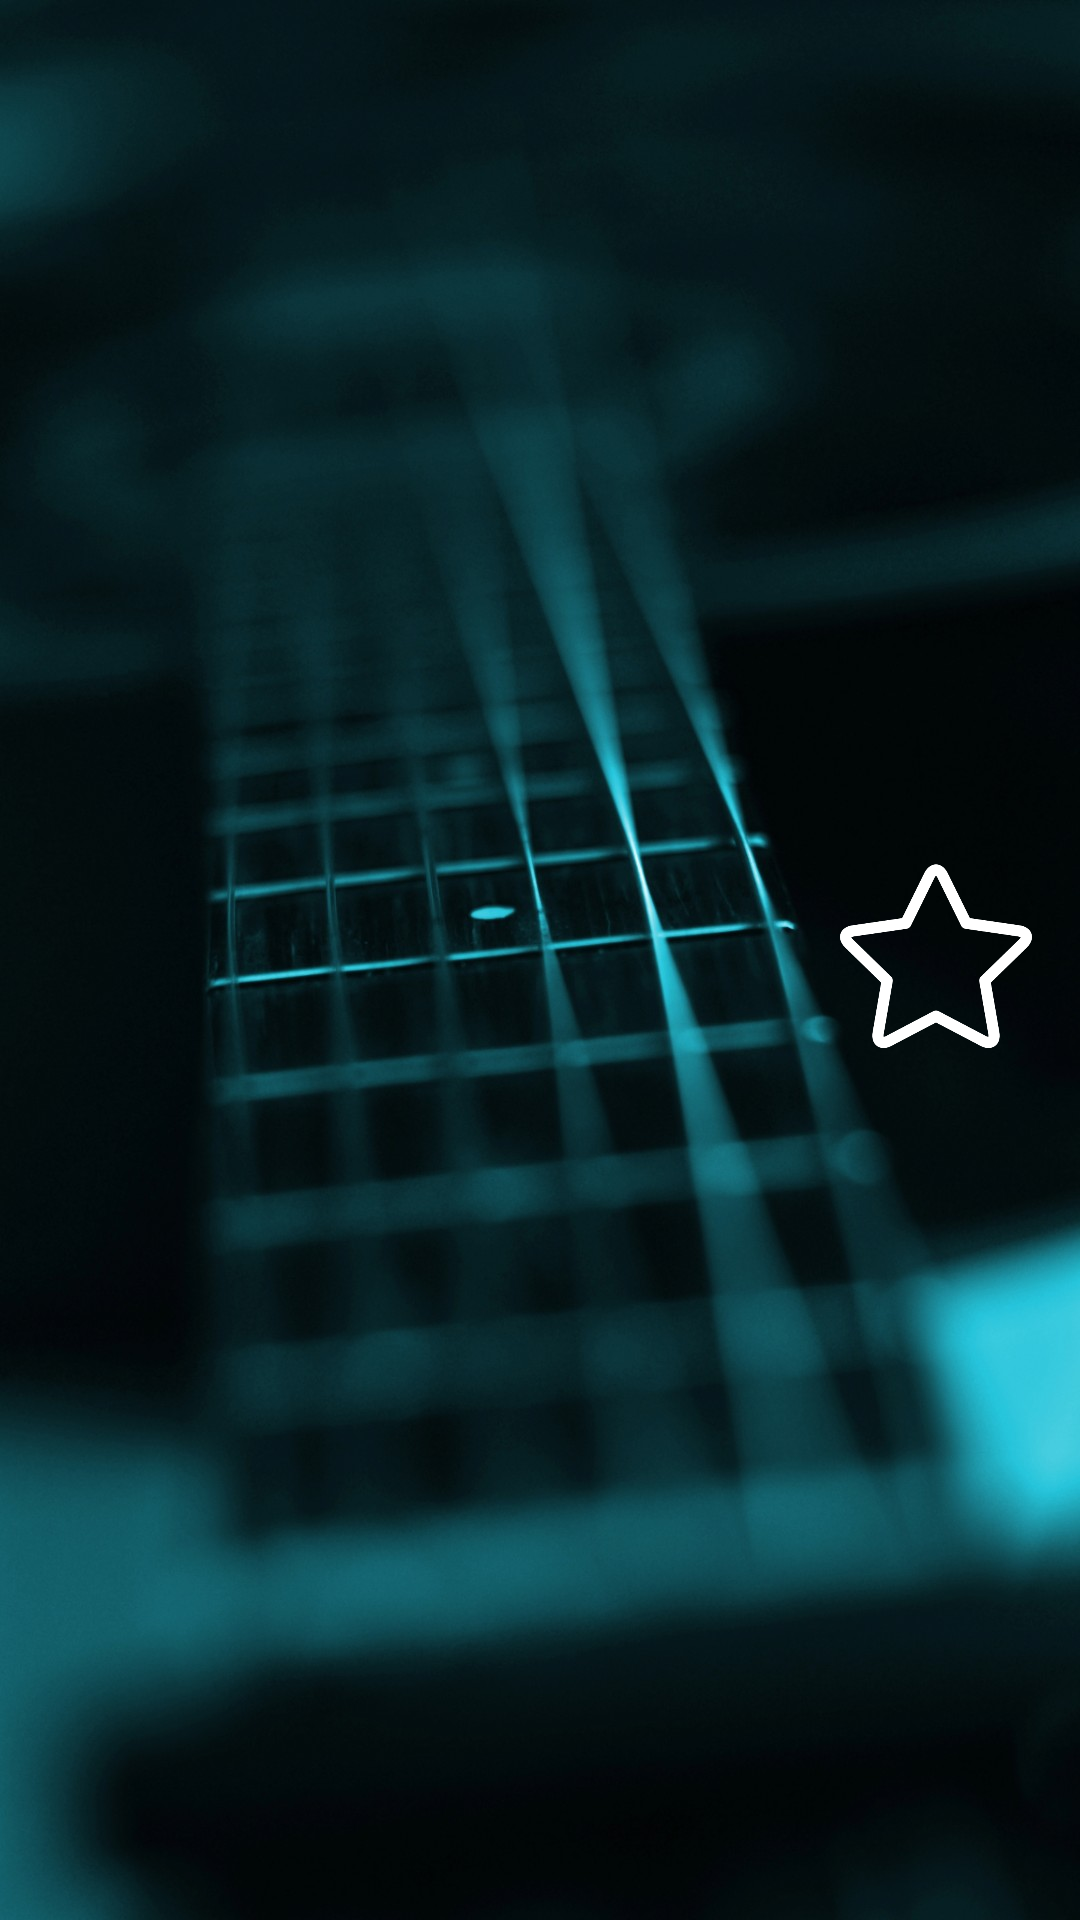

Where icons sit on this 1080*1920 app screen, as (x1, y1, x2, y2):
star: (840, 864, 1032, 1048)
